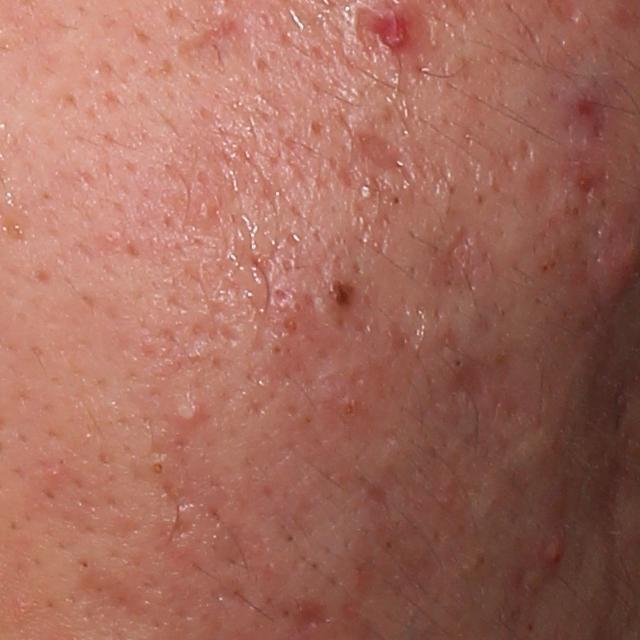atrophic_scar: (352, 121, 420, 195), (433, 224, 493, 301), (172, 14, 244, 69), (520, 164, 562, 224), (158, 492, 198, 546), (352, 1, 386, 63), (292, 596, 334, 636)
comedo: (149, 460, 167, 479), (452, 356, 467, 369)
nevus: (327, 271, 360, 312)
papule: (533, 531, 566, 576)
pustule: (163, 390, 212, 430)
